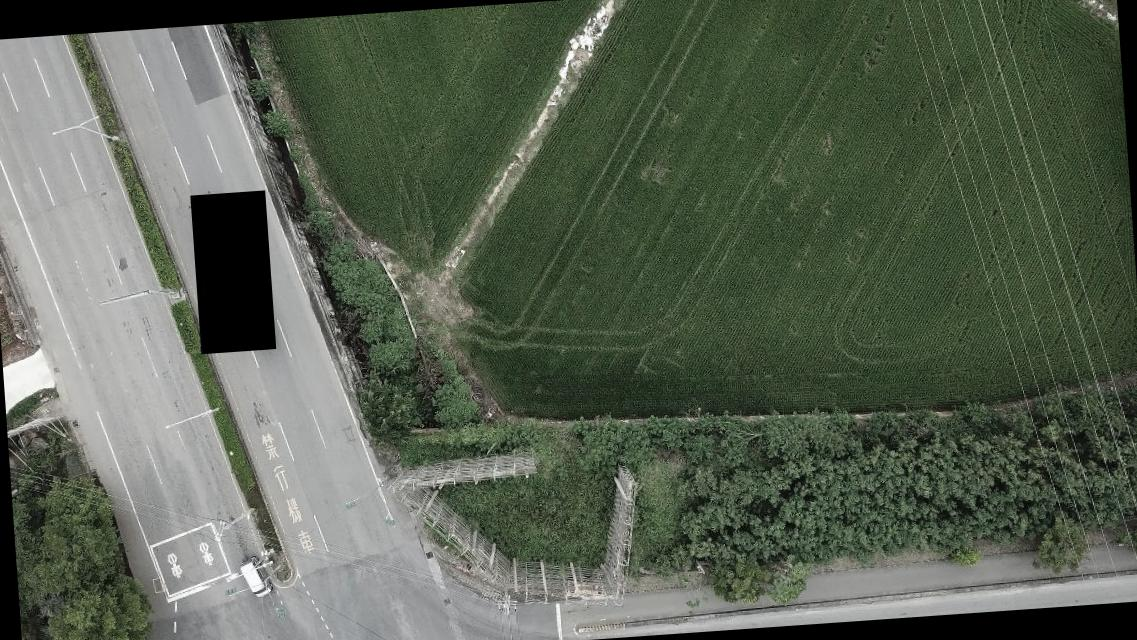vehicle: (240, 554, 270, 600)
